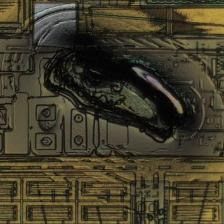COATING BAD: (1, 1, 224, 224)
